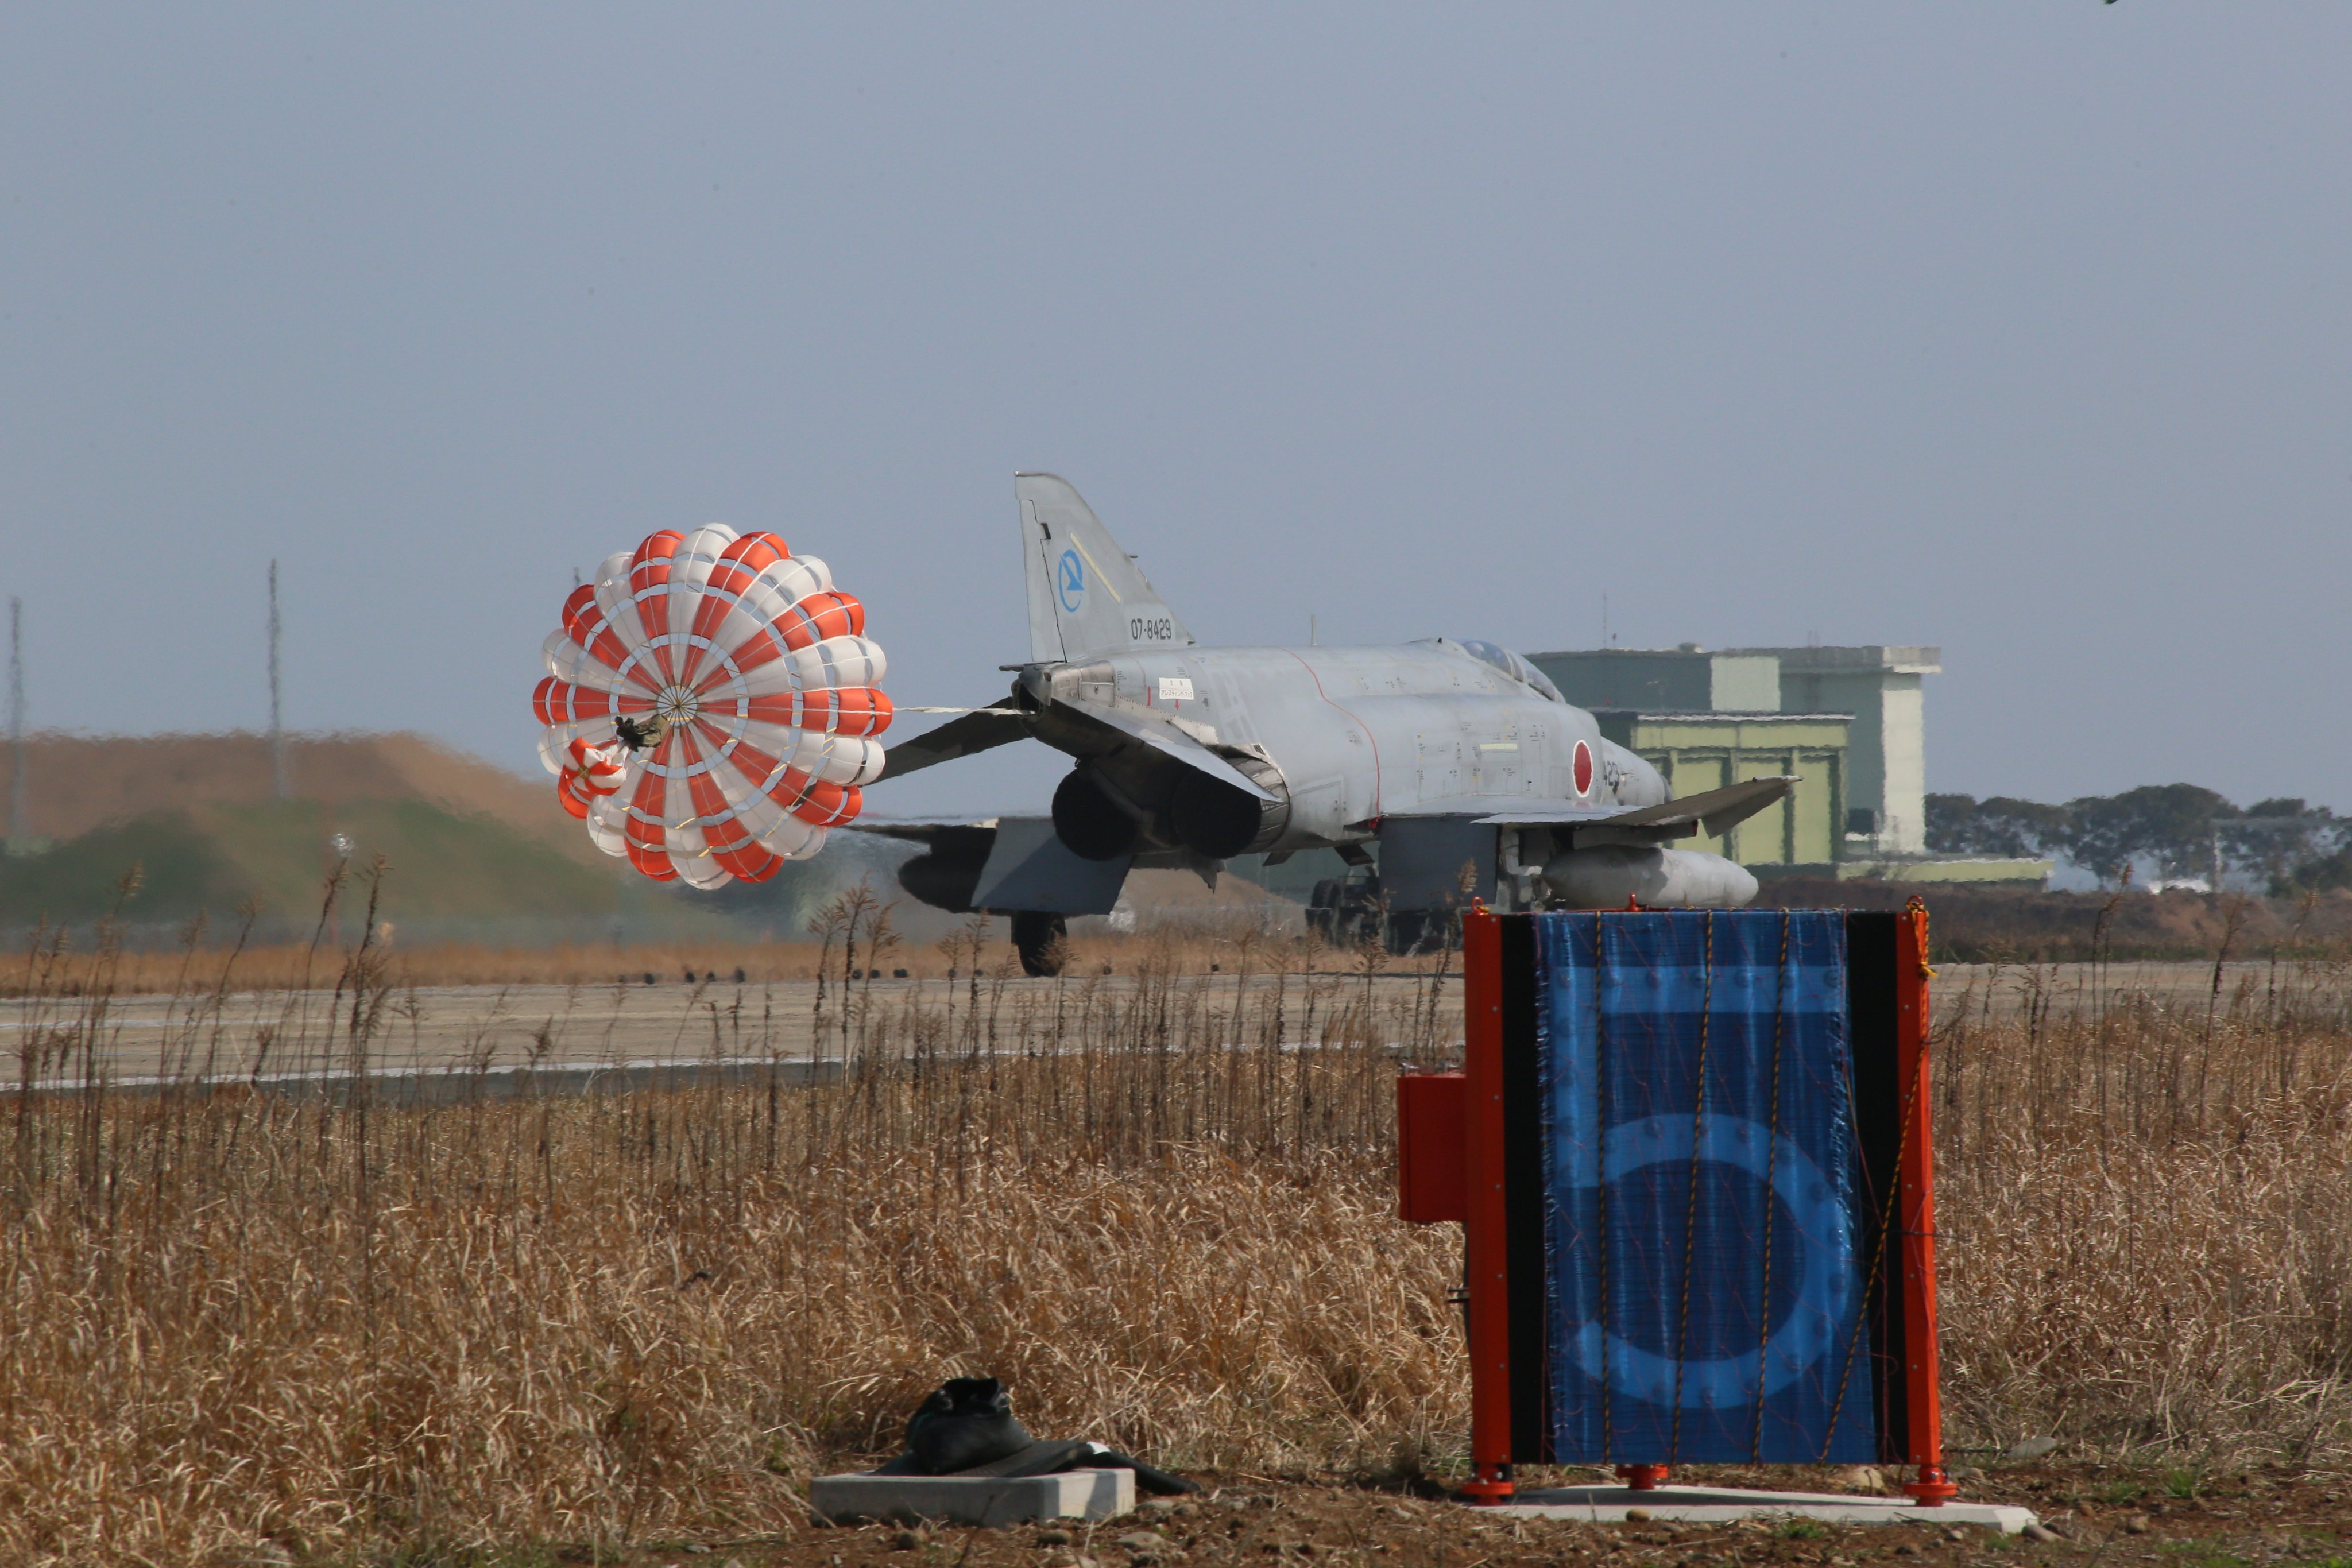F4: (789, 471, 1804, 976)
